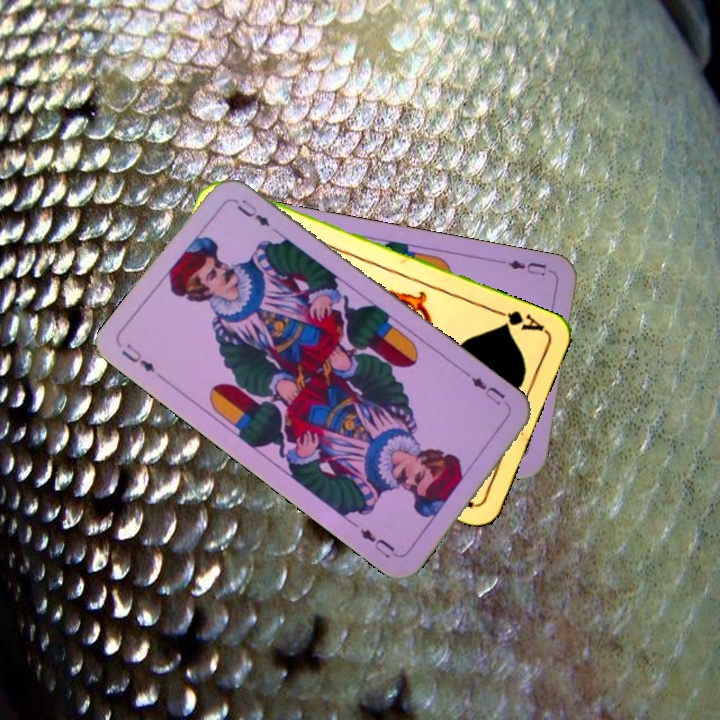EU: (462, 368, 513, 411), (117, 339, 158, 375), (497, 255, 549, 279)
GA: (490, 305, 547, 334)
